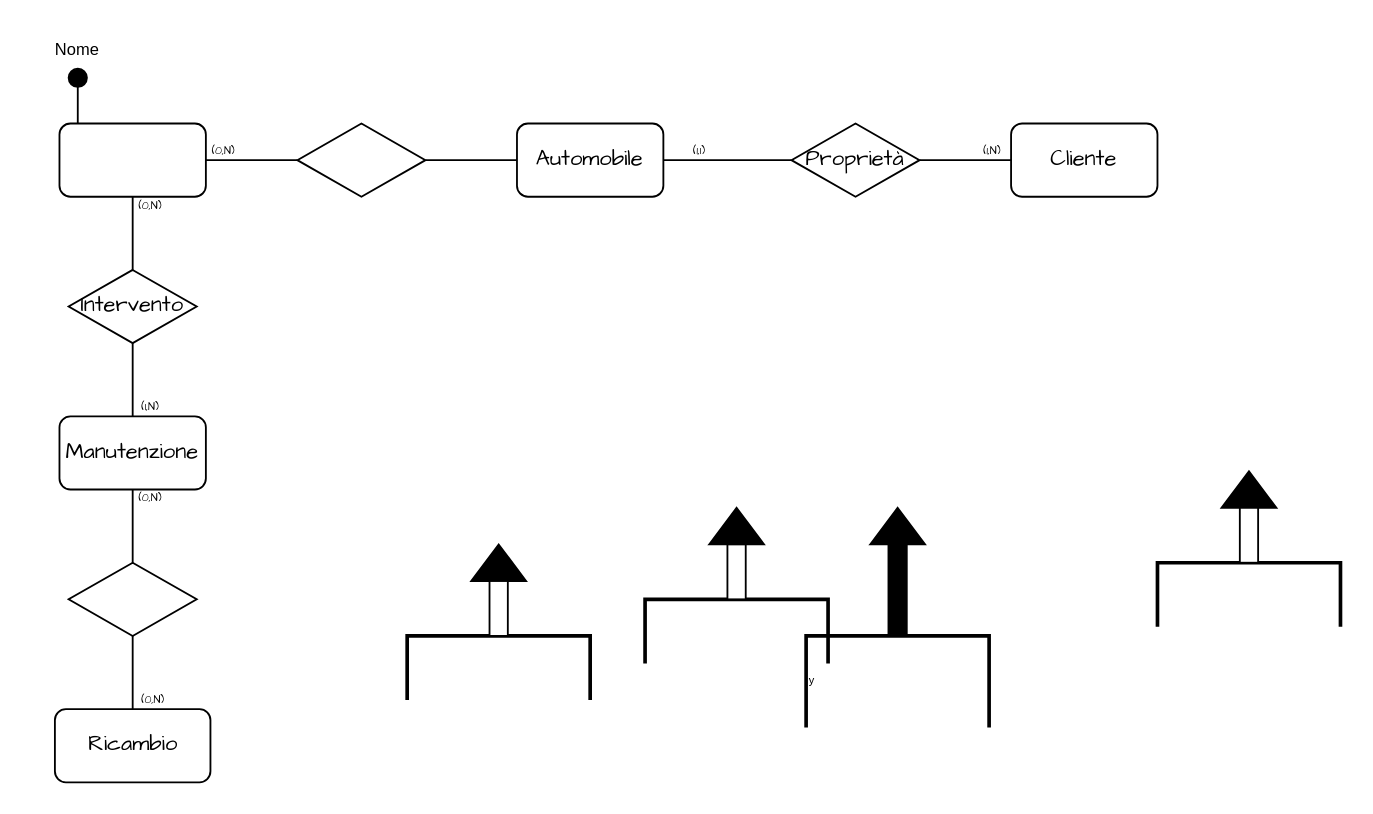
Image size: 1373x814. Some labels were removed from this diagram. Here are the shapes that lost their labels. From the top down, the box of each, then its label:
(58, 122, 206, 197): Officina
(296, 122, 425, 197): Deposito
(67, 561, 197, 636): Richiedere
